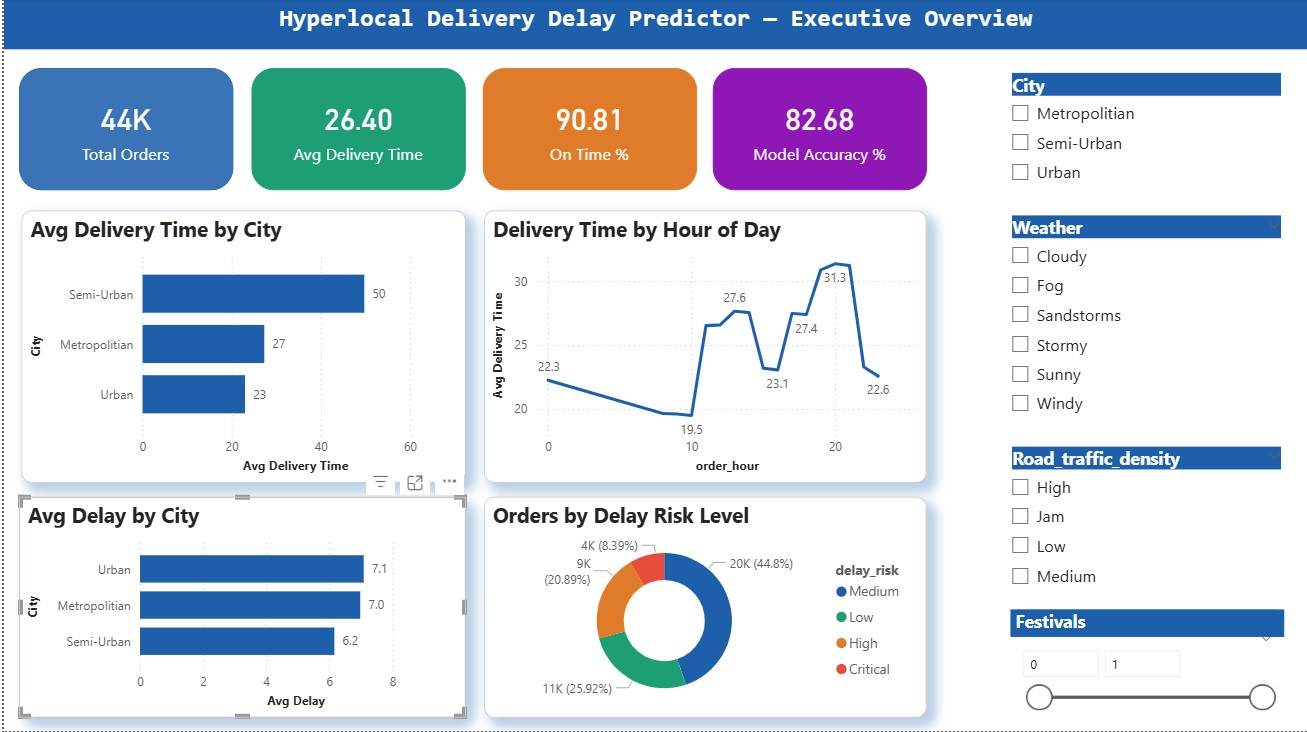

Layout of this report page (visuals, bound fields, positions):
{"tool":"powerbi","page":{"name":"Executive overview","canvas":[1280,720],"ordinal":0},"visuals":[{"type":"card","fields":{"Values":["FeatureImportance.Total Orders"]},"box":[14.3,68.6,210,120],"z":0},{"type":"clusteredBarChart","fields":{"Category":["Orders.City"],"Y":["Orders.Avg Delivery Time"]},"box":[17.1,208.6,435.7,267.1],"z":1000},{"type":"lineChart","title":"Delivery Time by Hour of Day","fields":{"Category":["Orders.order_hour"],"Y":["Orders.Avg Delivery Time"]},"box":[471.4,208.6,434.3,267.1],"z":2000},{"type":"donutChart","title":"Orders by Delay Risk Level","fields":{"Category":["Orders.delay_risk"],"Y":["FeatureImportance.Total Orders"]},"box":[471.4,490,434.3,217.1],"z":3000},{"type":"slicer","fields":{"Values":["Orders.City"]},"box":[977.1,68.6,290,128.6],"z":4000},{"type":"slicer","fields":{"Values":["Orders.weather"]},"box":[977.1,208.6,290,210],"z":5000},{"type":"slicer","fields":{"Values":["Orders.Road_traffic_density"]},"box":[977.1,435.7,290,150],"z":6000},{"type":"slicer","title":"Festivals","fields":{"Values":["Orders.Festivals"]},"box":[987.1,600,268.6,107.1],"z":7000},{"type":"clusteredBarChart","fields":{"Y":["FeatureImportance.Avg Delay"],"Category":["Orders.City"]},"box":[14.3,490,438.6,217.1],"z":8000},{"type":"textbox","box":[0,0,1280,50],"z":9000},{"type":"card","fields":{"Values":["Orders.Avg Delivery Time"]},"box":[242.9,68.6,210,120],"z":10000},{"type":"card","fields":{"Values":["FeatureImportance.On Time %"]},"box":[470,68.6,210,120],"z":11000},{"type":"card","fields":{"Values":["FeatureImportance.Model Accuracy %"]},"box":[695.7,68.6,210,120],"z":12000}]}

Visuals, with their boxes in screenshot pixels (x1, y1, x2, y2), scaled from the page's 1280x720 canvas onto the 1307x732 screenshot:
card - FeatureImportance.Total Orders: {"x1": 15, "y1": 70, "x2": 229, "y2": 192}
clusteredBarChart - Orders.City x Orders.Avg Delivery Time: {"x1": 17, "y1": 212, "x2": 462, "y2": 484}
"Delivery Time by Hour of Day" lineChart: {"x1": 481, "y1": 212, "x2": 925, "y2": 484}
"Orders by Delay Risk Level" donutChart: {"x1": 481, "y1": 498, "x2": 925, "y2": 719}
slicer - Orders.City: {"x1": 998, "y1": 70, "x2": 1294, "y2": 200}
slicer - Orders.weather: {"x1": 998, "y1": 212, "x2": 1294, "y2": 426}
slicer - Orders.Road_traffic_density: {"x1": 998, "y1": 443, "x2": 1294, "y2": 595}
"Festivals" slicer: {"x1": 1008, "y1": 610, "x2": 1282, "y2": 719}
clusteredBarChart - FeatureImportance.Avg Delay x Orders.City: {"x1": 15, "y1": 498, "x2": 462, "y2": 719}
textbox: {"x1": 0, "y1": 0, "x2": 1306, "y2": 51}
card - Orders.Avg Delivery Time: {"x1": 248, "y1": 70, "x2": 462, "y2": 192}
card - FeatureImportance.On Time %: {"x1": 480, "y1": 70, "x2": 694, "y2": 192}
card - FeatureImportance.Model Accuracy %: {"x1": 710, "y1": 70, "x2": 925, "y2": 192}
